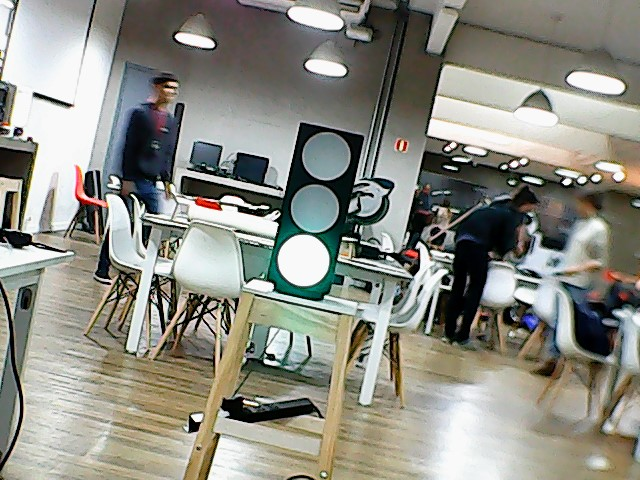verde: (261, 120, 376, 301)
